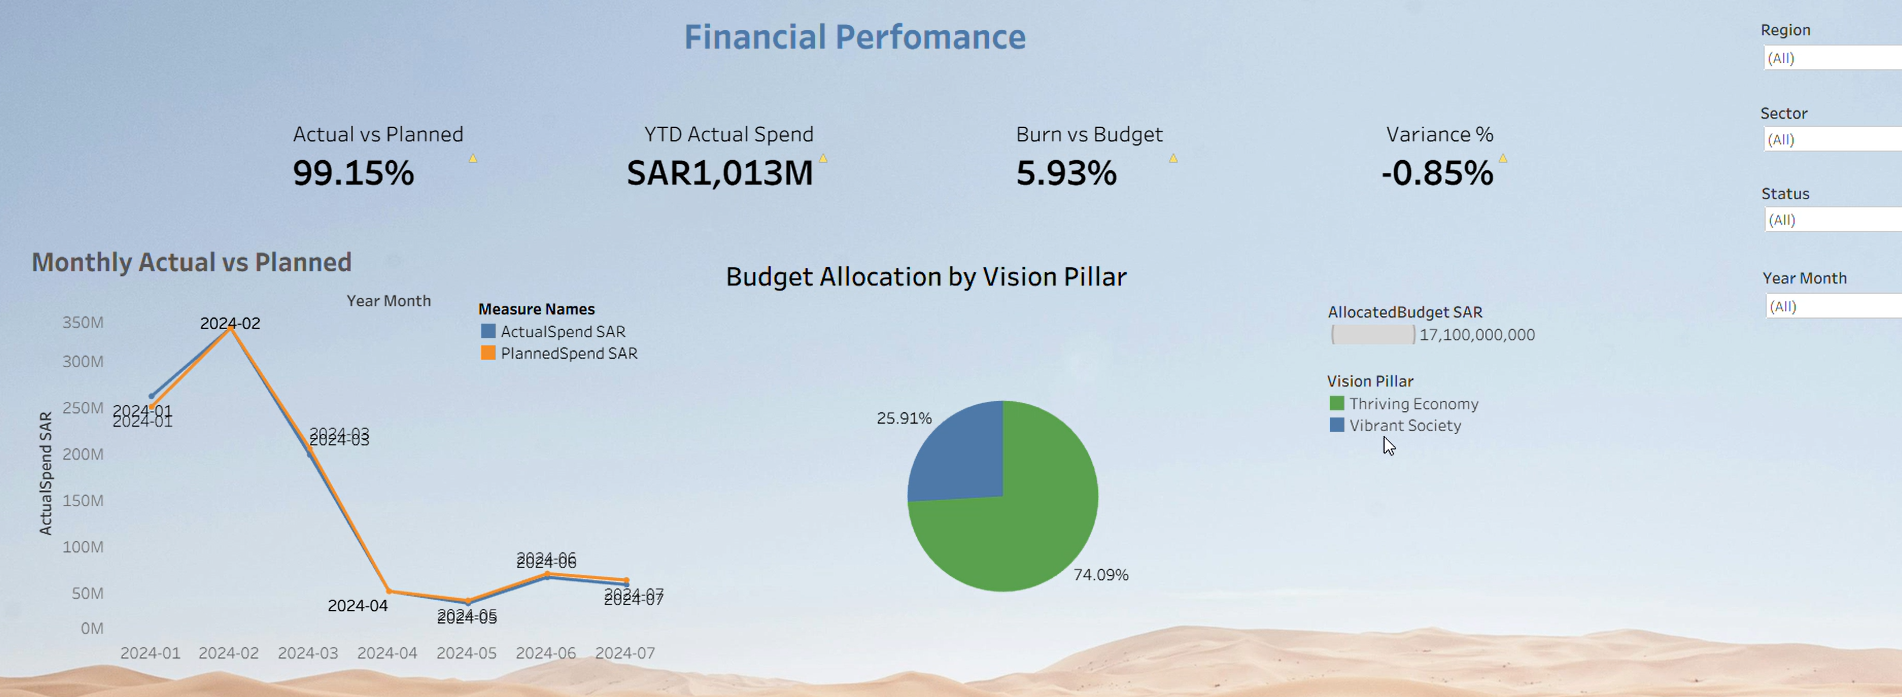

The dashboard page shown, as its layout file describes it:
{"tool":"tableau","page":{"name":"Dashboard 6","canvas":[1000,1200],"ordinal":6},"visuals":[{"type":"worksheet","title":"Sheet 5 (2)","mark":"Shape","cols":["Calculation_862439369863942159","Calculation_862439369864155153","Calculation_862439369864241171","Calculation_862439369864269845"],"box":[13,22.5,783,247.5]},{"type":"filter","title":"Sheet 5 (2)","param":"[federated.0oj14w81gm30w31b2gkgy0b29xbv].[none:Region:nk]","box":[806,22.5,171,81]},{"type":"filter","title":"Sheet 5 (2)","param":"[federated.0oj14w81gm30w31b2gkgy0b29xbv].[none:Sector:nk]","box":[807,105,172,64.5]},{"type":"filter","title":"Sheet 5 (2)","param":"[federated.0oj14w81gm30w31b2gkgy0b29xbv].[none:Status:nk]","box":[805,195,177,67.5]},{"type":"legend","title":"Sheet 22","param":"[federated.0oj14w81gm30w31b2gkgy0b29xbv].[sum:AllocatedBudget_SAR:qk]","box":[641,273,141,57]},{"type":"filter","title":"Sheet 5 (2)","param":"[federated.0oj14w81gm30w31b2gkgy0b29xbv].[none:YearMonth:nk]","box":[805,273,174,63]},{"type":"worksheet","title":"Sheet 18","mark":"Automatic","rows":["ActualSpend_SAR","PlannedSpend_SAR"],"cols":["YearMonth"],"box":[17,277.5,492,366]},{"type":"legend","title":"Sheet 18","param":"[federated.0oj14w81gm30w31b2gkgy0b29xbv].[:Measure Names]","box":[363,300,140,87]},{"type":"worksheet","title":"Sheet 22","mark":"Pie","box":[533,357,440,366]},{"type":"legend","title":"Sheet 22","param":"[federated.0oj14w81gm30w31b2gkgy0b29xbv].[none:VisionPillar:nk]","box":[828,454.5,140,87]},{"type":"worksheet","title":"Sheet 21","mark":"Automatic","rows":["Calculation_862439370263769134","Calculation_862439370263973935"],"cols":["ProjectName"],"box":[535,704,449,339]},{"type":"worksheet","title":"Sheet 19","mark":"Bar","rows":["Calculation_862439370176671776","Calculation_862439370212257837"],"cols":["PlannedDate"],"box":[22,713,476,311]}]}

Visuals, with their boxes on the page's 1000x1200 design canvas (x1, y1, x2, y2). These are canvas units, not pixel positions in the 1902x697 screenshot, which may show the page scaled, cropped or inside an application window:
"Sheet 5 (2)" worksheet (Shape marks): locate(13, 22, 796, 270)
"Sheet 5 (2)" filter: locate(806, 22, 977, 104)
"Sheet 5 (2)" filter: locate(807, 105, 979, 170)
"Sheet 5 (2)" filter: locate(805, 195, 982, 262)
"Sheet 22" legend: locate(641, 273, 782, 330)
"Sheet 5 (2)" filter: locate(805, 273, 979, 336)
"Sheet 18" worksheet: locate(17, 278, 509, 644)
"Sheet 18" legend: locate(363, 300, 503, 387)
"Sheet 22" worksheet (Pie marks): locate(533, 357, 973, 723)
"Sheet 22" legend: locate(828, 454, 968, 542)
"Sheet 21" worksheet: locate(535, 704, 984, 1043)
"Sheet 19" worksheet (Bar marks): locate(22, 713, 498, 1024)
